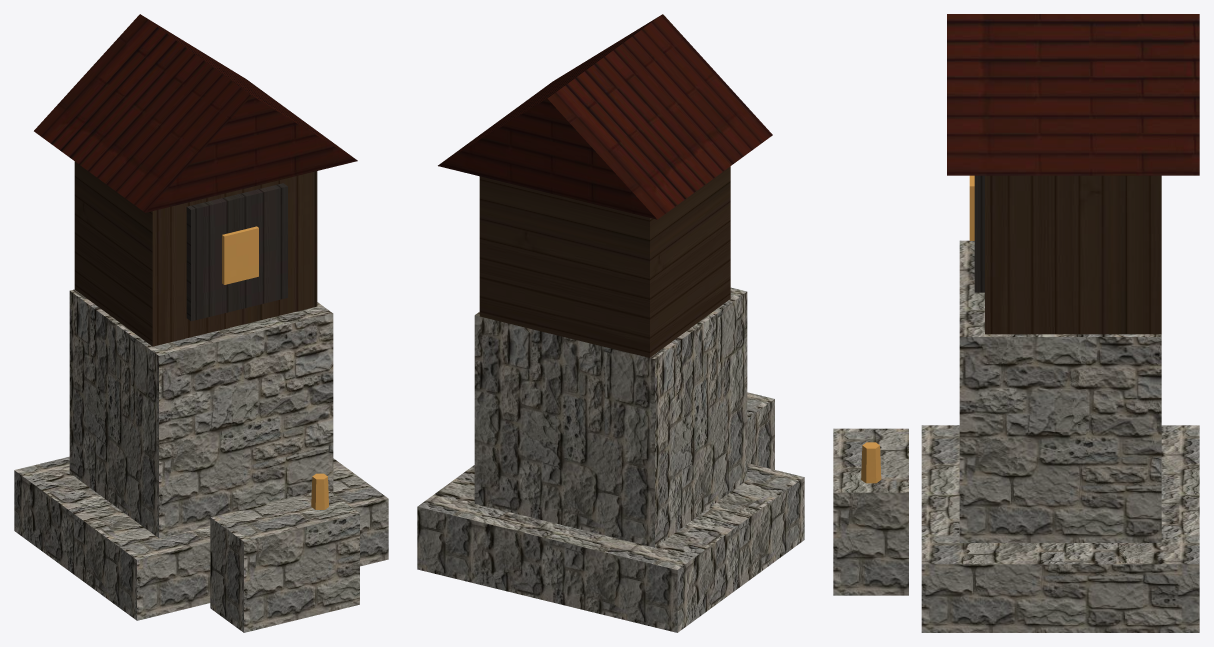
File: wayside_shrine_01.glb
3 views of the same model, side by side, from view 1: azimuth 30°, elevation 25°; view 2: azimuth 150°, elevation 25°; view 3: azimuth 270°, elevation 25° (orthographic). The views are drawn at different scales.
Parts seen in each view (by area): view 1: wayside_shrine_01; view 2: wayside_shrine_01; view 3: wayside_shrine_01.
Part boxes in pixels (<box>): wayside_shrine_01: <box>14,14,388,632</box>; wayside_shrine_01: <box>417,14,804,632</box>; wayside_shrine_01: <box>833,14,1199,632</box>.
Bounding box in the file's own units: 1.3 × 2.4 × 1.45.
5 materials, 5 textured.
